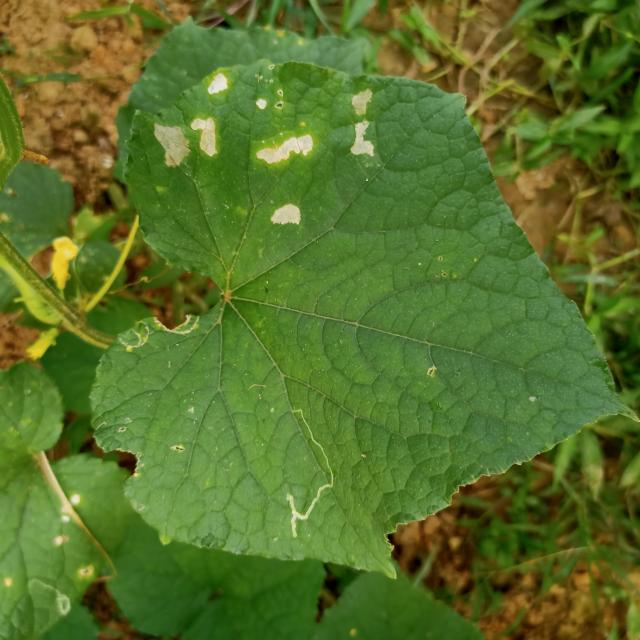disease_cucumber: (150, 67, 316, 175), (345, 82, 379, 163), (270, 196, 303, 234)
